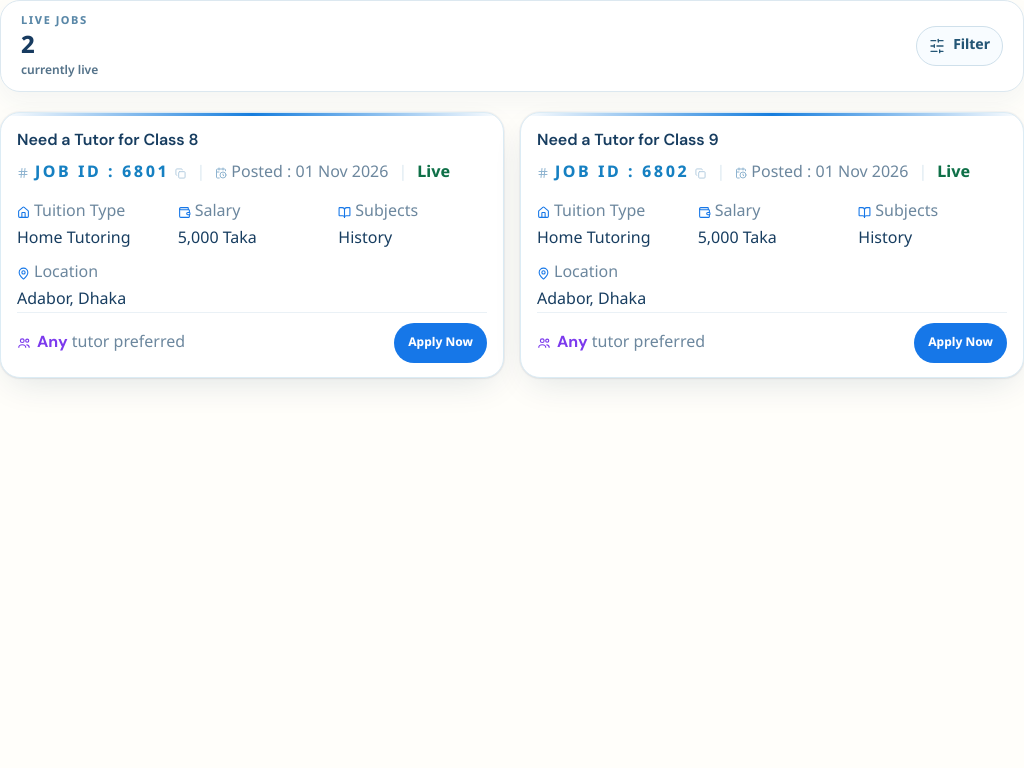
Scenario: the Tutoring Time in the details dialog a Tutor opens › shows the Guardian's time as 4:30 PM for a job that carries one
Click the button with aria-label "Job ID 6801": [252, 245] box top-left (0, 112), bottom-right (504, 378)
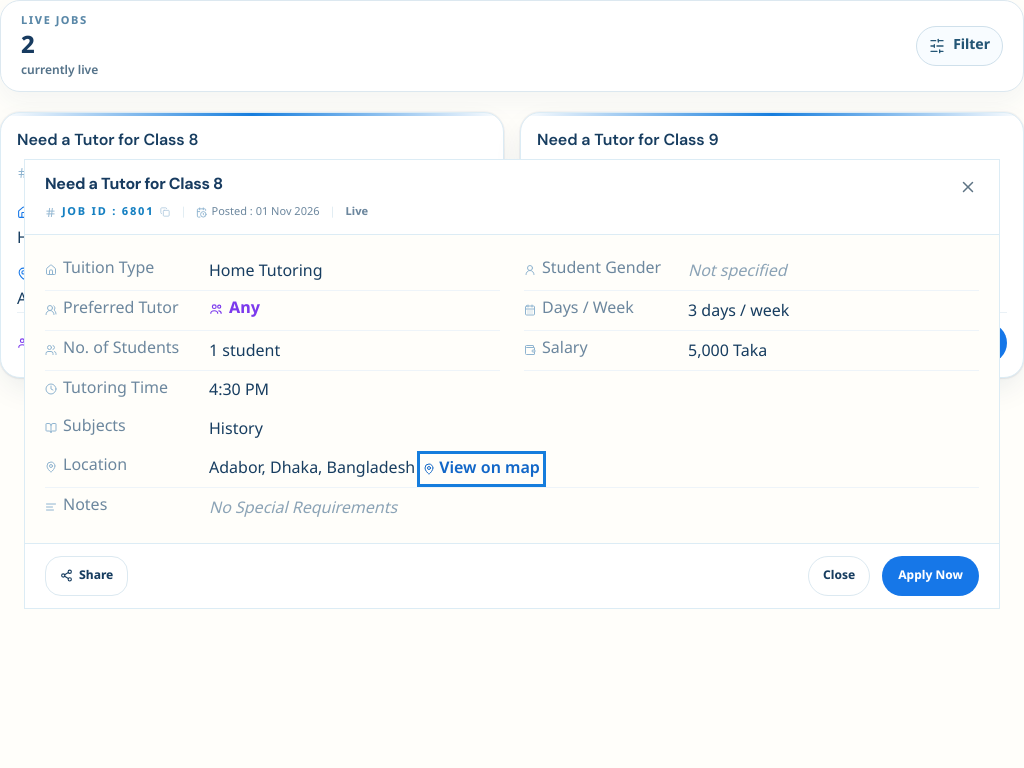
Check: the text "4:30 PM" is shown, box top-left (209, 380), bottom-right (269, 402)
